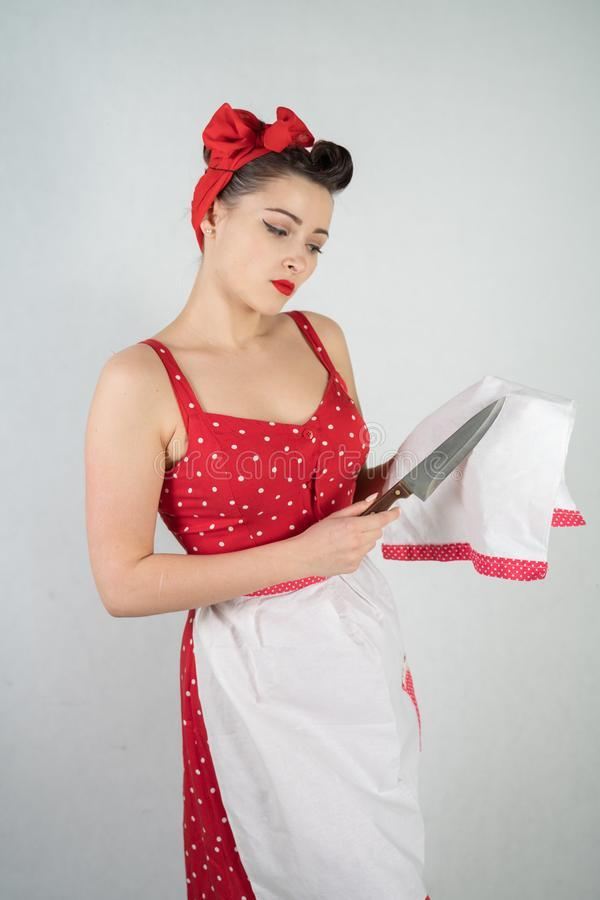criminal: (85, 102, 588, 900)
weapon: (359, 396, 506, 525)
